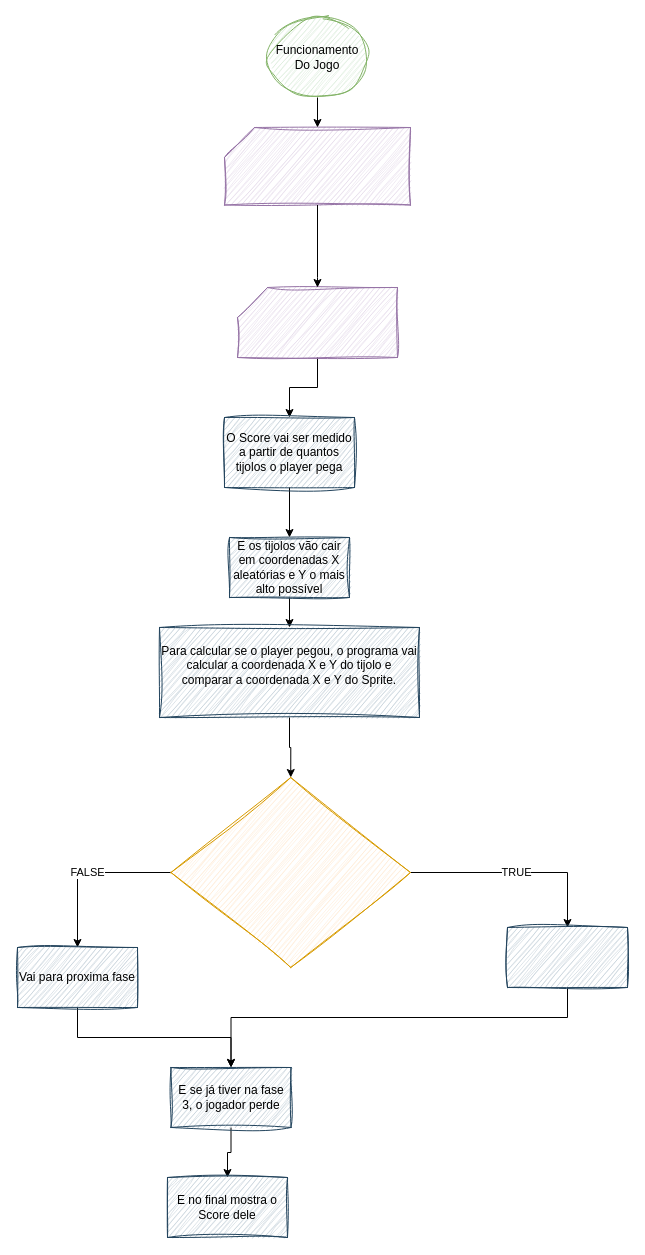
This 645x1255 diagram has some shape labels left out. Here are the shapes that lost their labels. From the top down, the centre of each, then its label:
At point 317,165: "O jogo vai ser basear em Score e coordenadas na tela".
At point 317,322: "Quanto maior Score mais rápido vai cair tijolo".
At point 290,872: "Math.abs(TijoloX-SpriteX) <= 3 && Math.abs(TijoloY-SpriteY) <= 2".
At point 567,957: "score += 1;".
